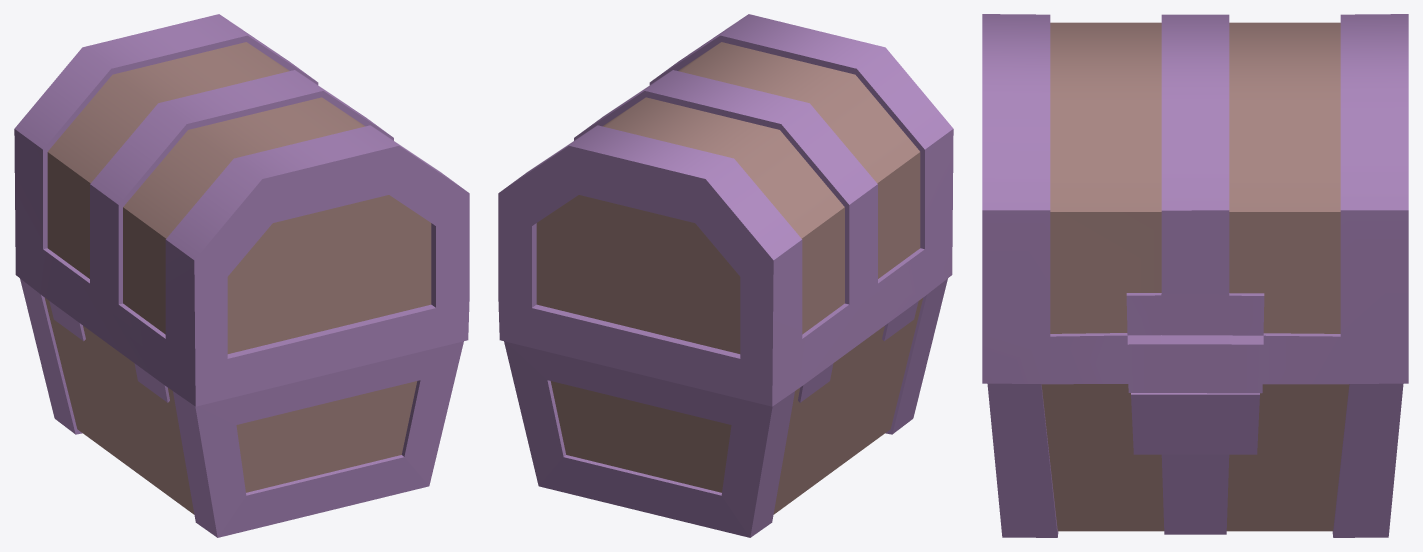
File: ChestBlot_low.fbx
3 renders of one model, left to right at view 1: azimuth 30°, elevation 25°; view 2: azimuth 150°, elevation 25°; view 3: azimuth 270°, elevation 25°, orthographic. The views are drawn at different scales.
Parts seen in each view (by area): view 1: ChestLid_low, Chest_low; view 2: ChestLid_low, Chest_low; view 3: ChestLid_low, Chest_low.
Boxes of the visible parts, x1,y1,x2,y2 form: ChestLid_low: (14,14,469,406); Chest_low: (20,278,463,537); ChestLid_low: (498,14,953,406); Chest_low: (504,278,947,537); ChestLid_low: (982,14,1408,393); Chest_low: (987,383,1403,537).
Size of the model in its own units: 12.61 by 14.77 by 13.51.
